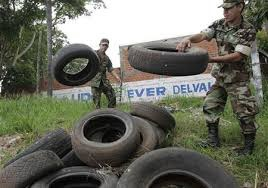tire: (116, 147, 241, 188), (70, 105, 141, 166), (126, 42, 210, 76), (1, 149, 66, 187), (50, 42, 100, 87), (26, 166, 121, 188), (130, 100, 178, 133)
